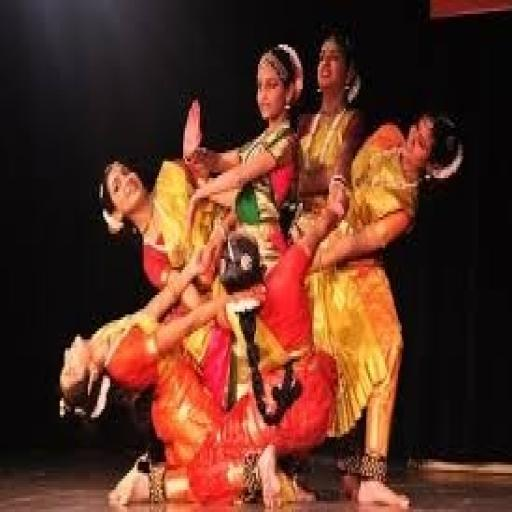dancing: (79, 61, 454, 508)
